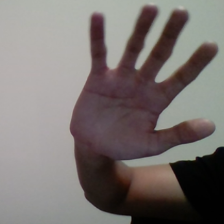left: (48, 1, 224, 169)
